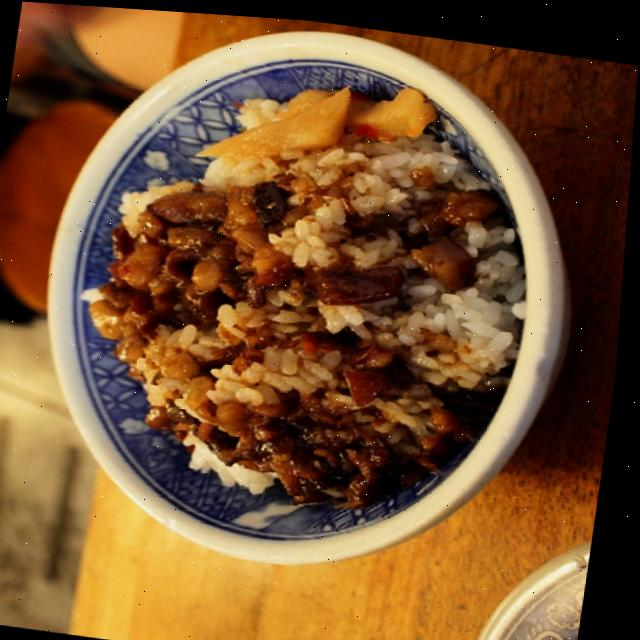猪肉菜式: (18, 3, 595, 590)
